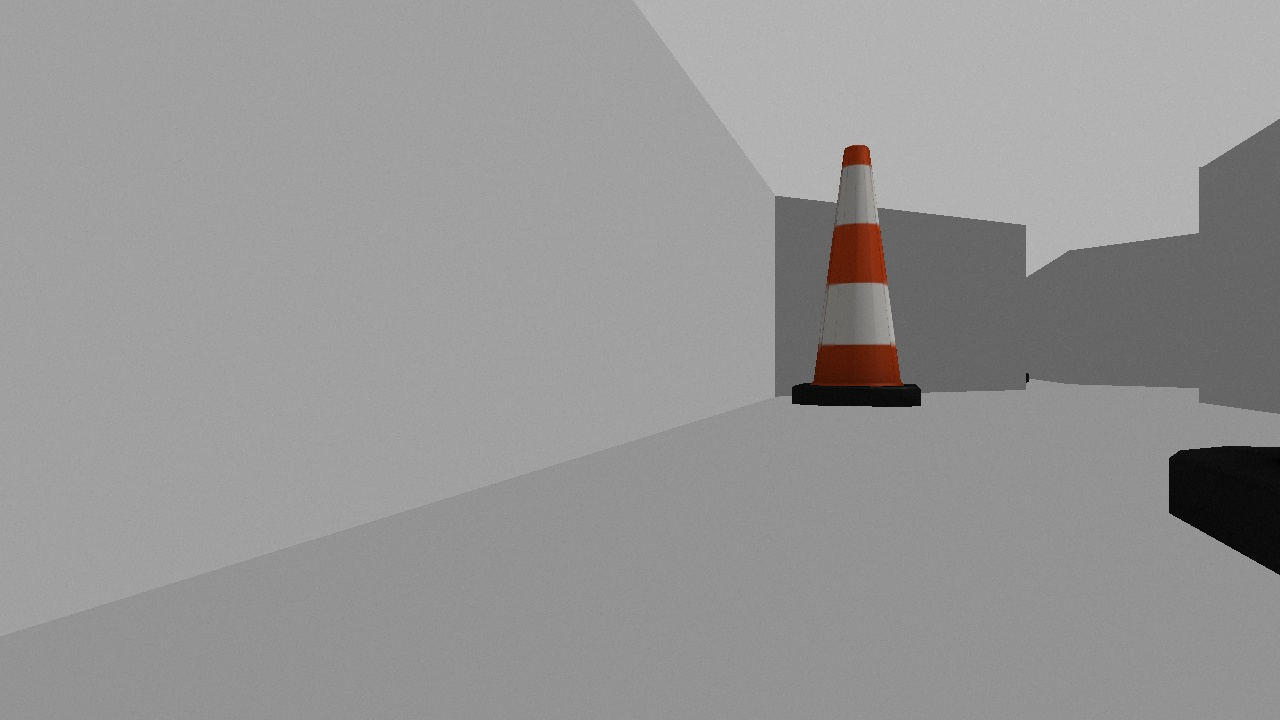barricade: (785, 142, 931, 405)
